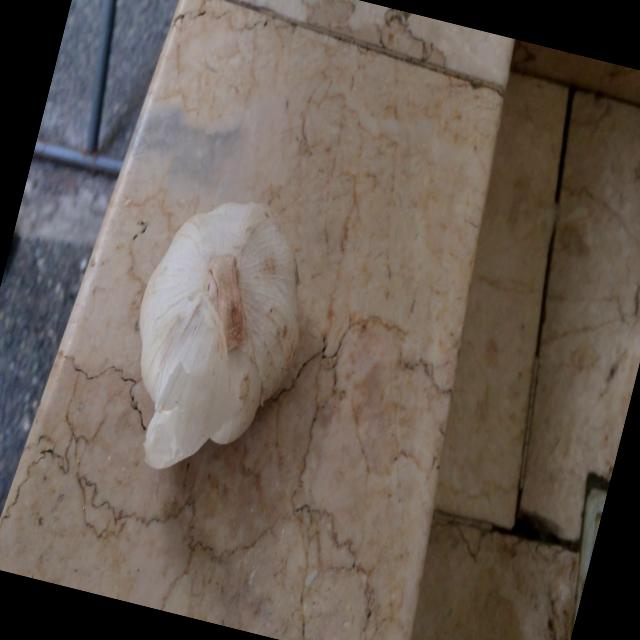bawang: (100, 174, 332, 497)
